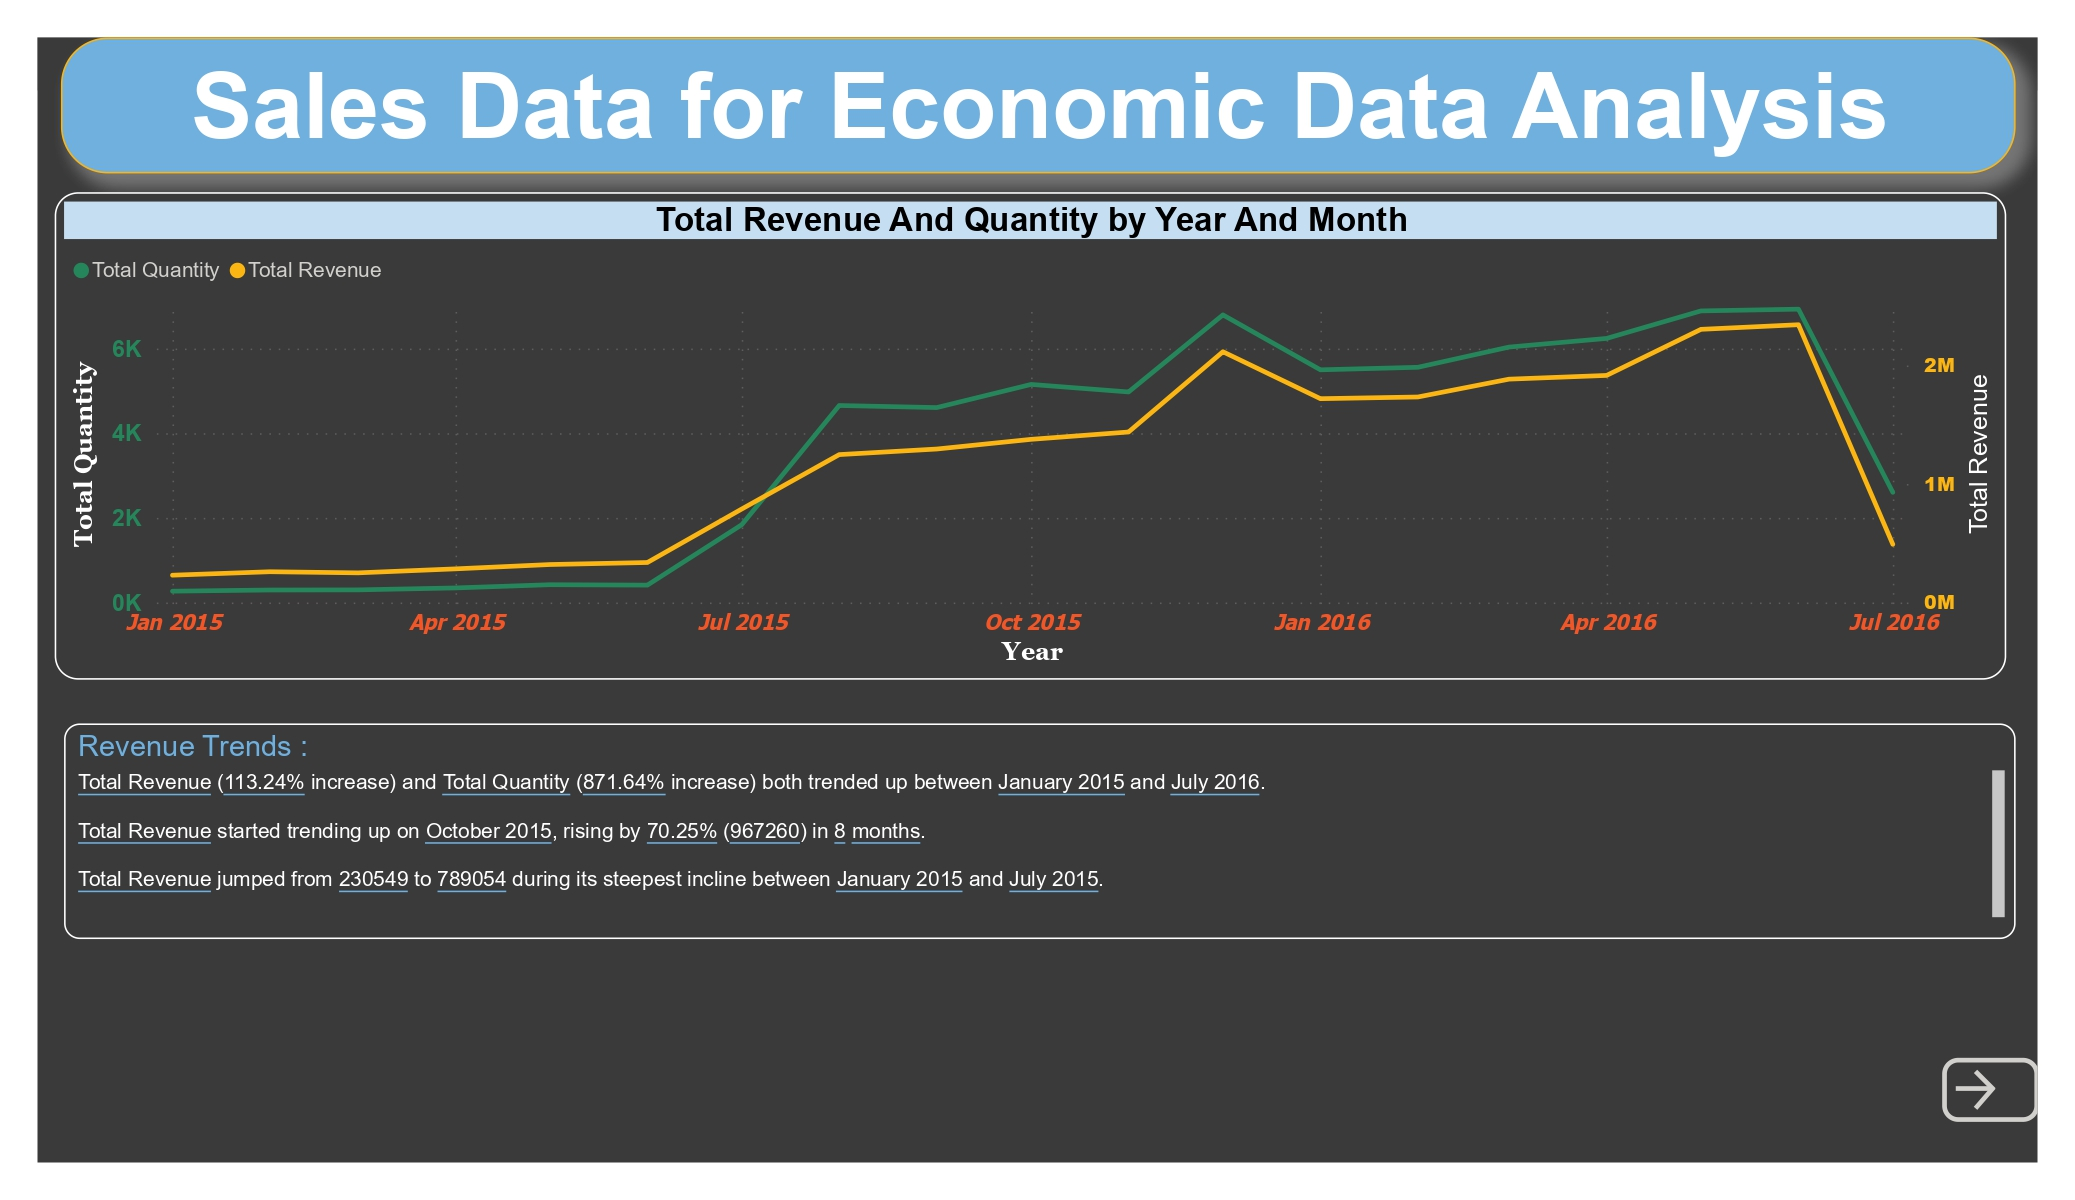

Layout of this report page (visuals, bound fields, positions):
{"tool":"powerbi","page":{"name":"P1","canvas":[1280,720],"ordinal":0},"visuals":[{"type":"textbox","title":"Sales Data for Economic Data Analysis","box":[15.5,0,1250.8,86.9],"z":0},{"type":"lineChart","title":"Total  Revenue And Quantity by Year And Month","fields":{"Category":["salesforcourse.Date.Variation.Date Hierarchy.Year","salesforcourse.Date.Variation.Date Hierarchy.Quarter","salesforcourse.Date.Variation.Date Hierarchy.Month"],"Y":["Sum(salesforcourse.Quantity)"],"Y2":["Sum(salesforcourse.Revenue)"]},"box":[10.9,98.9,1249.4,312.4],"z":1000},{"type":"actionButton","box":[1218.6,653.4,61.9,40.5],"z":2000},{"type":"textbox","title":"Revenue Trends :","box":[16.7,439.1,1249.6,138],"z":3000}]}

Visuals, with their boxes in screenshot pixels (x1, y1, x2, y2):
"Sales Data for Economic Data Analysis" textbox: box(62, 38, 2016, 173)
"Total  Revenue And Quantity by Year And Month" lineChart: box(55, 192, 2007, 680)
actionButton: box(1942, 1058, 2038, 1122)
"Revenue Trends :" textbox: box(64, 724, 2016, 939)
